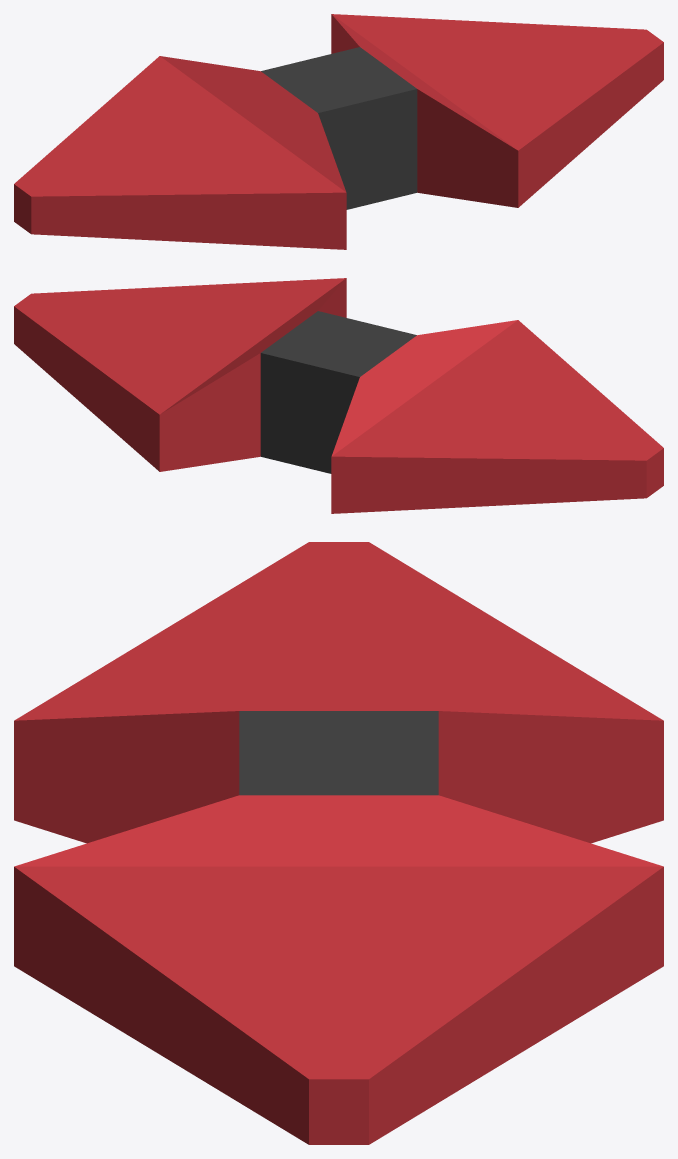
File: Controller.fbx
3 views of the same model, one above another, from view 1: azimuth 30°, elevation 25°; view 2: azimuth 150°, elevation 25°; view 3: azimuth 270°, elevation 25° (orthographic). The views are drawn at different scales.
Parts seen in each view (by area): view 1: Controller; view 2: Controller; view 3: Controller.
Boxes of the visible parts, x1,y1,x2,y2 form: Controller: (14, 14, 663, 249); Controller: (14, 278, 663, 513); Controller: (14, 542, 663, 1144).
Size of the model in its own units: 4.78 by 2.44 by 0.749.
